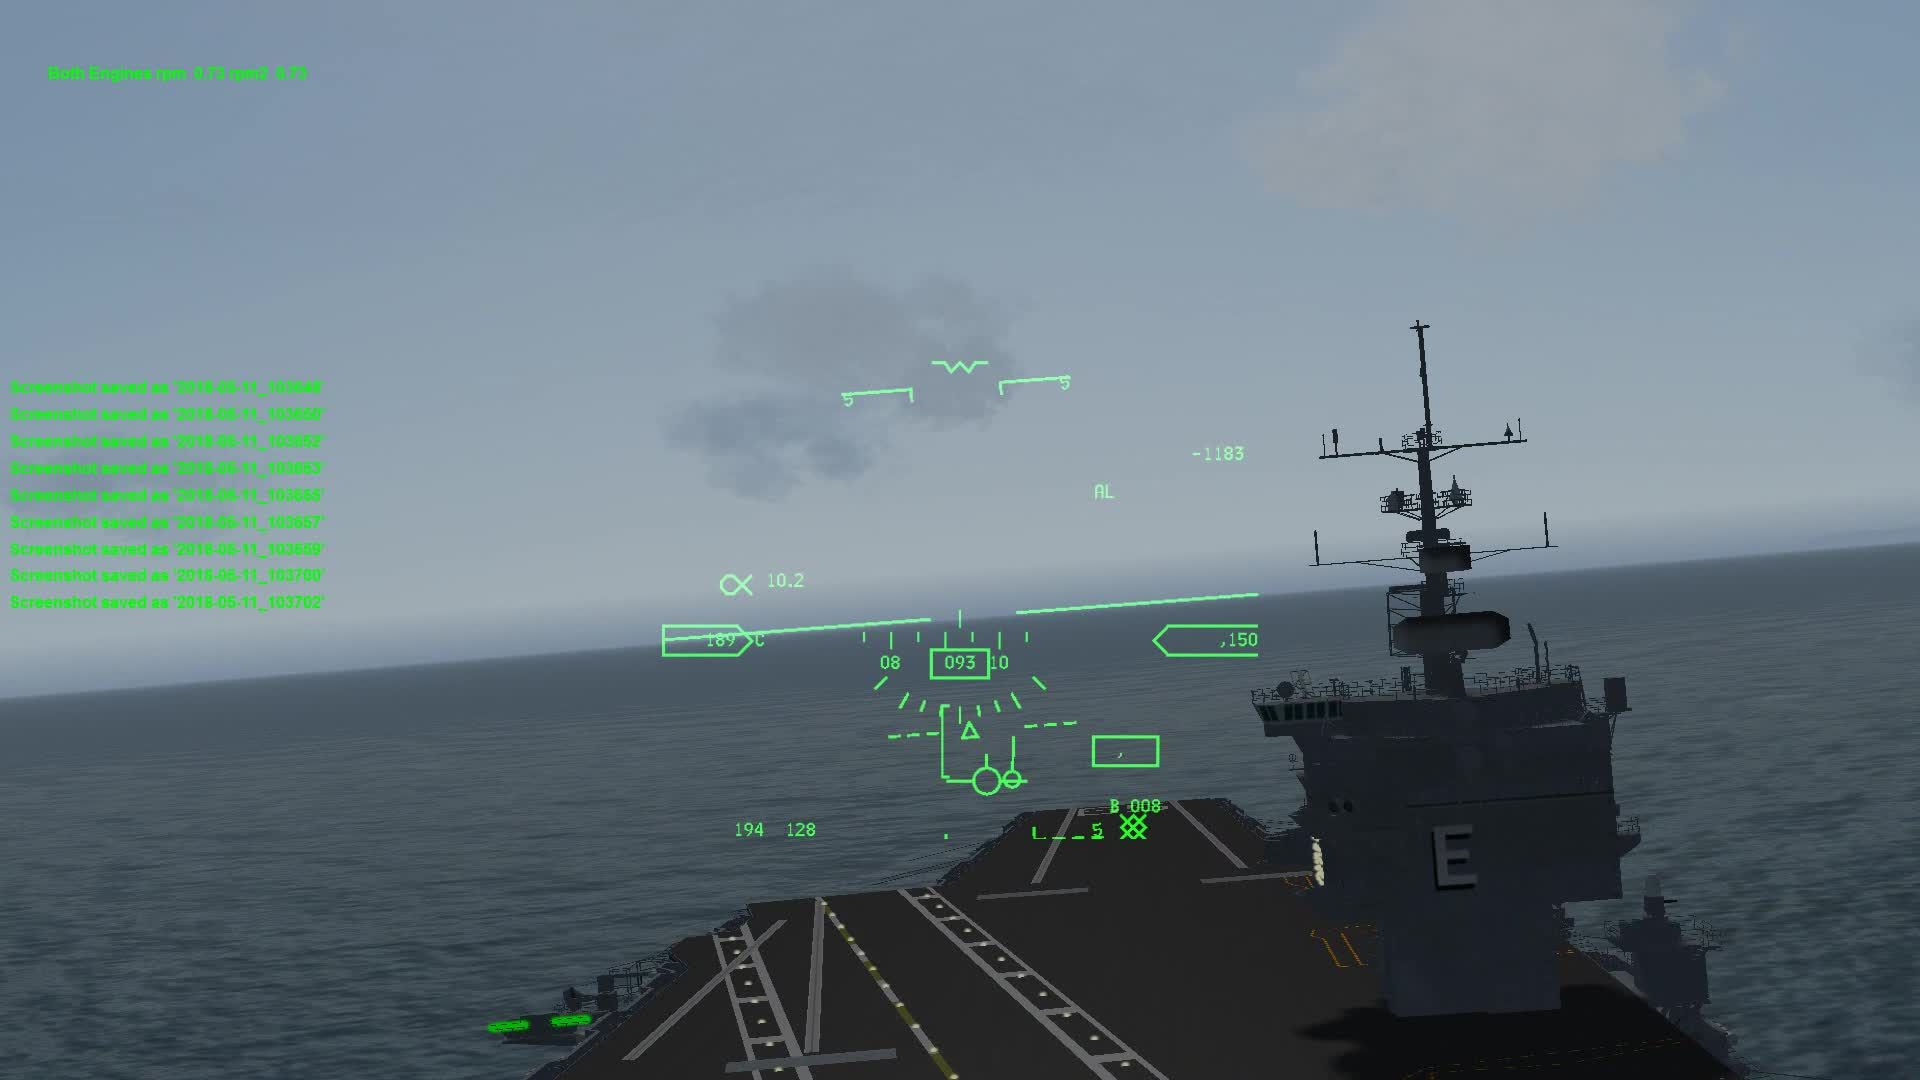speed vector: (949, 748, 1030, 798)
